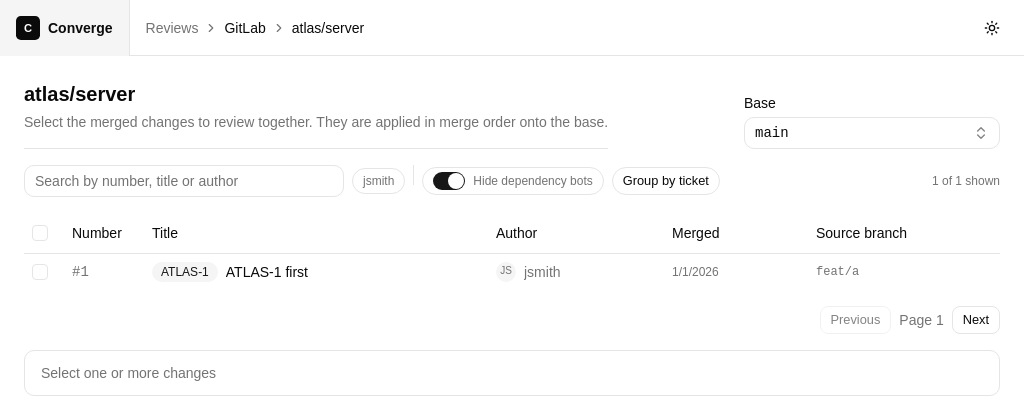
Scenario: SelectChangesPage › wires Pagination to page state and gates Next on hasNext
Expected: the text "ATLAS-1 first" is shown, left=226, top=262, right=308, bottom=282
Click the button "Next". click: point(976, 320)
box: left=952, top=306, right=1000, bottom=334
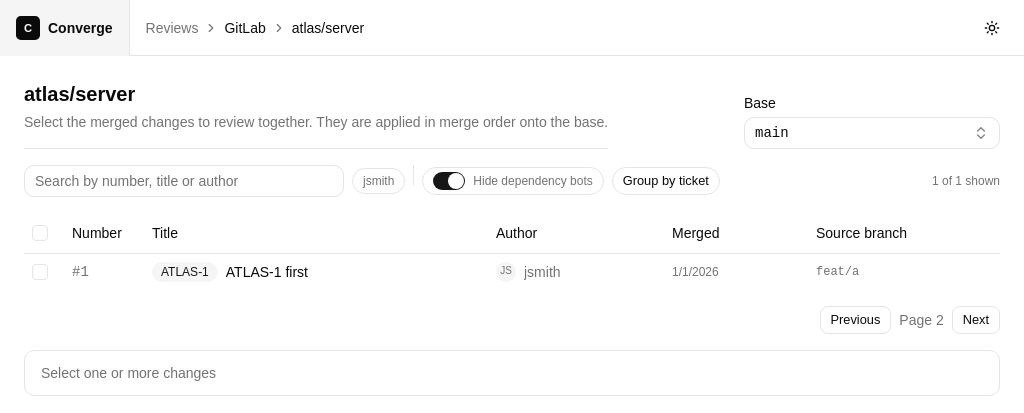
Expected: the text "Page 2" is shown, left=899, top=310, right=944, bottom=330
Expected: the button "Previous" is enabled
Click the button "Previous". click: point(855, 320)
box: left=820, top=306, right=891, bottom=334
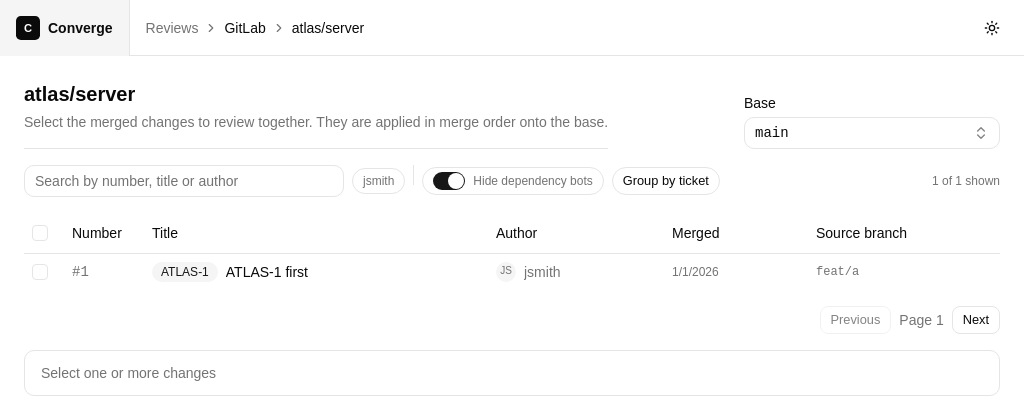
Expected: the text "Page 1" is shown, left=899, top=310, right=944, bottom=330
Expected: the button "Previous" is disabled, left=820, top=306, right=891, bottom=334
